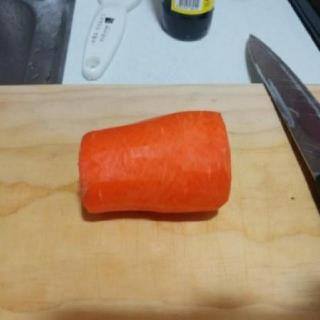carrot: (77, 108, 235, 220)
